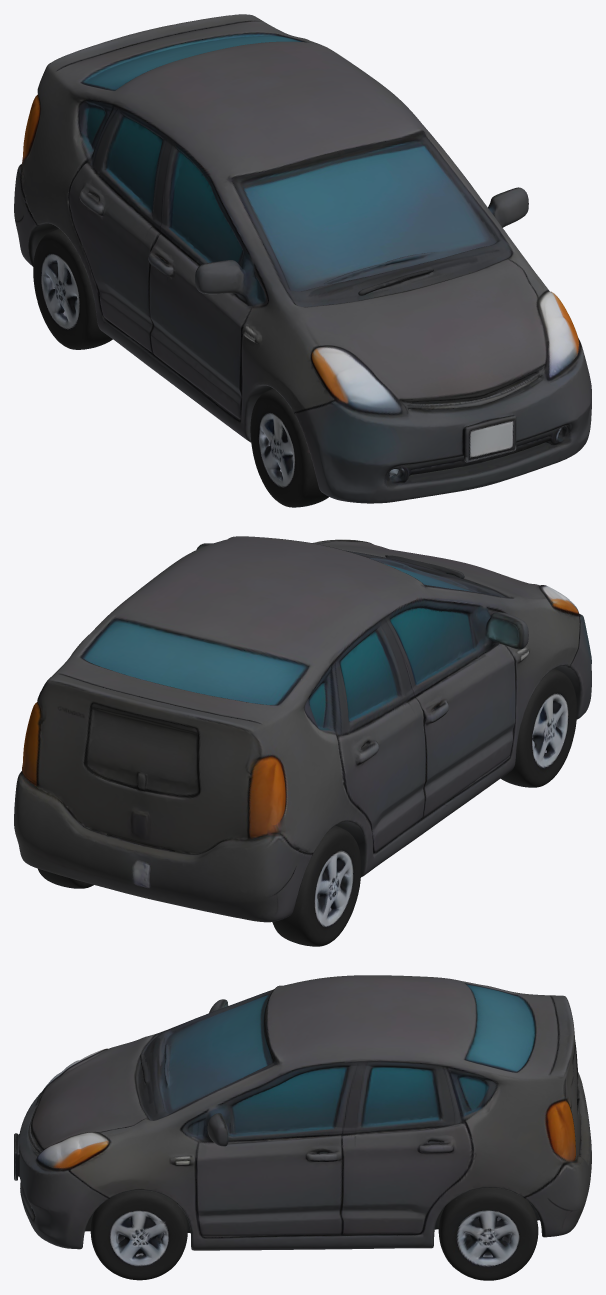
Rendered from Car_Gray_5000.fbx.
3 views of the same model, one above another, from view 1: azimuth 30°, elevation 25°; view 2: azimuth 150°, elevation 25°; view 3: azimuth 270°, elevation 25° (orthographic). The views are drawn at different scales.
Parts seen in each view (by area): view 1: tripo_node_3d309edc; view 2: tripo_node_3d309edc; view 3: tripo_node_3d309edc.
Part boxes in pixels (x1,y1,x2,y2): tripo_node_3d309edc: (14, 14, 591, 507); tripo_node_3d309edc: (14, 536, 591, 946); tripo_node_3d309edc: (14, 975, 591, 1280).
Bounding box in the file's own units: 53.13 × 99.99 × 43.05.
